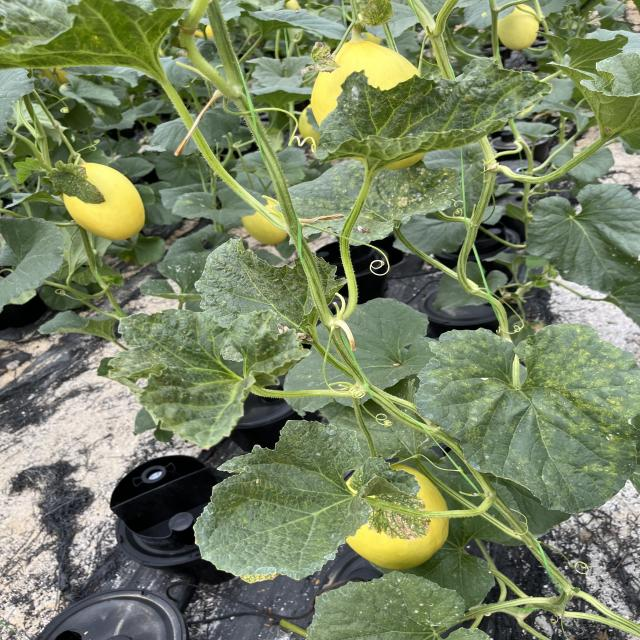CMV: (178, 416, 426, 584), (188, 235, 352, 334), (311, 570, 487, 640), (541, 45, 640, 152)
SLCV: (301, 40, 556, 166), (100, 312, 298, 436)
alternaria leaf blight: (297, 41, 346, 78), (360, 0, 393, 28)
downy mildew: (399, 320, 640, 516)
